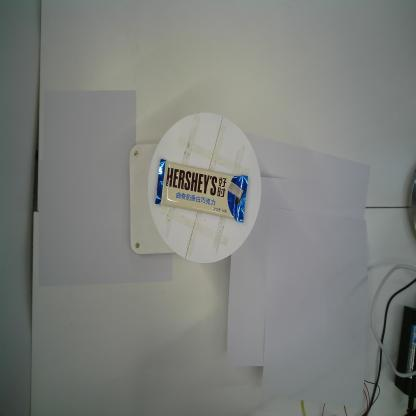Chocolate: (154, 158, 249, 224)
